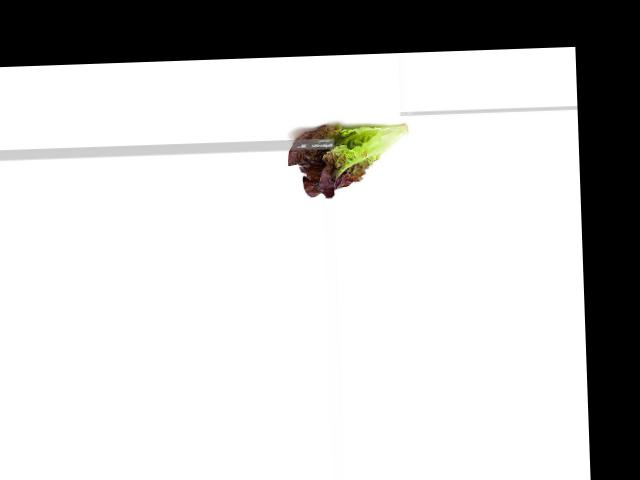lettuce: (284, 115, 415, 200)
